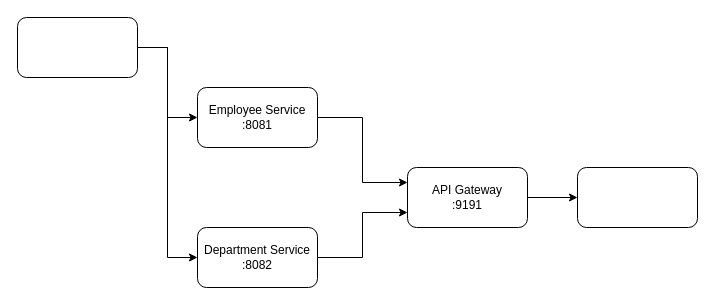
Some shapes in this 715 by 305 pixel diagram are drawn without their labels. The shapes that lost their labels are listed below. From the top down, each one's centre as x and y in pixels, then its label:
At point 77,47: "Config Server (Hosted on Github) :8888".
At point 637,197: "Service Registry :8761".
